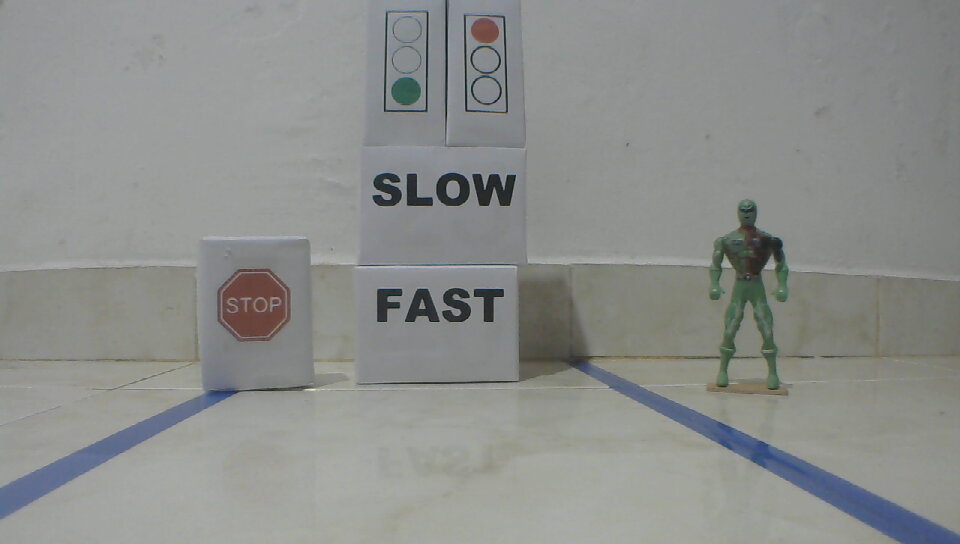Fast: (376, 287, 507, 327)
Green Traffic Light: (381, 9, 431, 115)
Person: (705, 197, 794, 393)
Red Traffic Light: (461, 13, 511, 119)
Slow: (372, 171, 517, 210)
Stop Sign: (214, 267, 293, 343)
